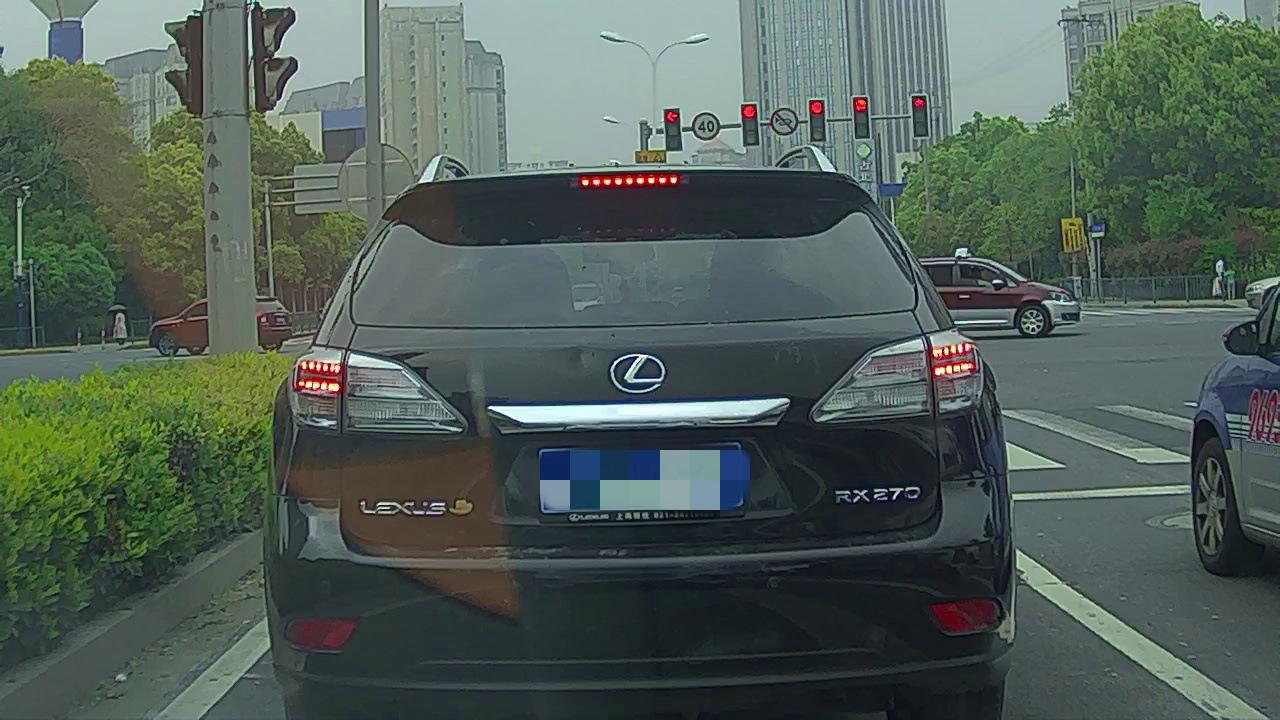traffic_light: (663, 107, 682, 151), (911, 95, 929, 137), (742, 103, 759, 146), (852, 96, 869, 138), (809, 100, 826, 141)
